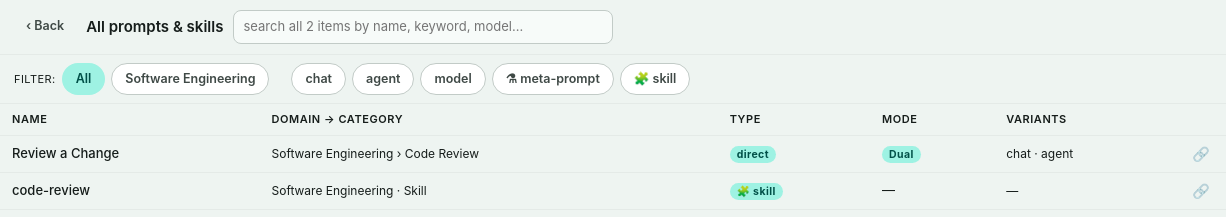
Test case: PromptCatalogView › filters rows when text is typed in search input
Step 1. Type "XYZNOTMATCH" into the field with placeholder "search all 2 items by name, keyword, model…" → (423, 27), box [233, 10, 613, 44]
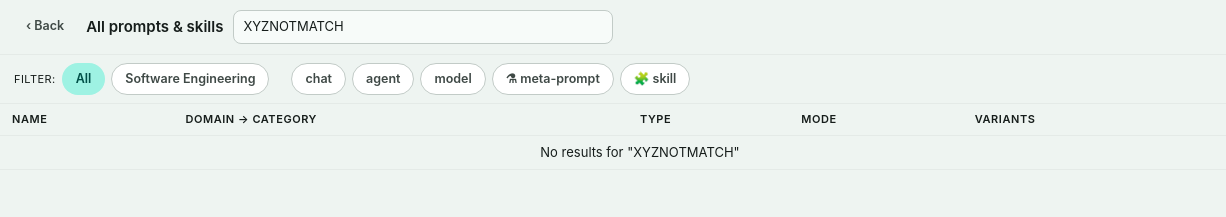
Now the button "Review a Change" is gone
Now the button "code-review" is gone
